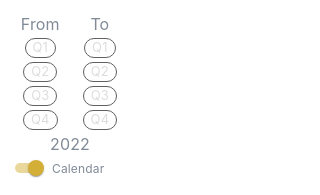
Test: <PresetFilterDates> › should handle type changes
Click the text "Calendar": (78, 168) [52,161,104,176]
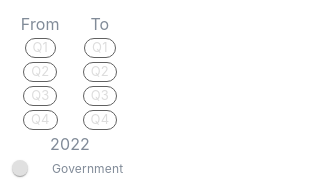
Expected: the text "Government" is shown, [52,161,123,176]
